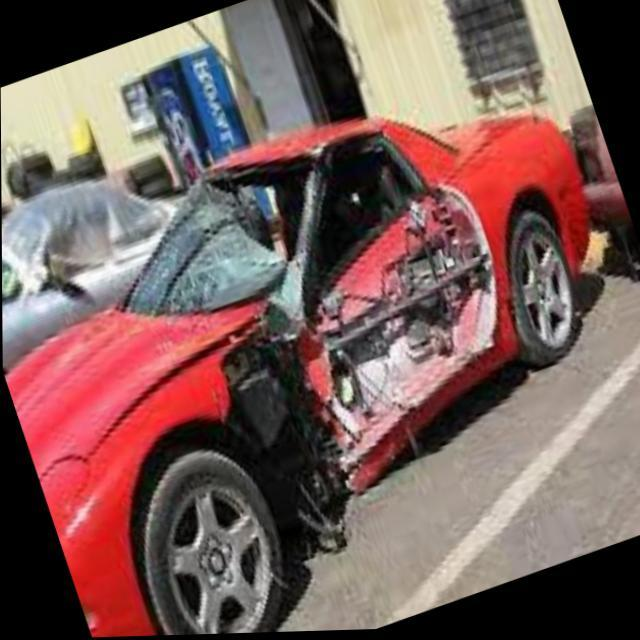crash: (184, 135, 507, 547)
